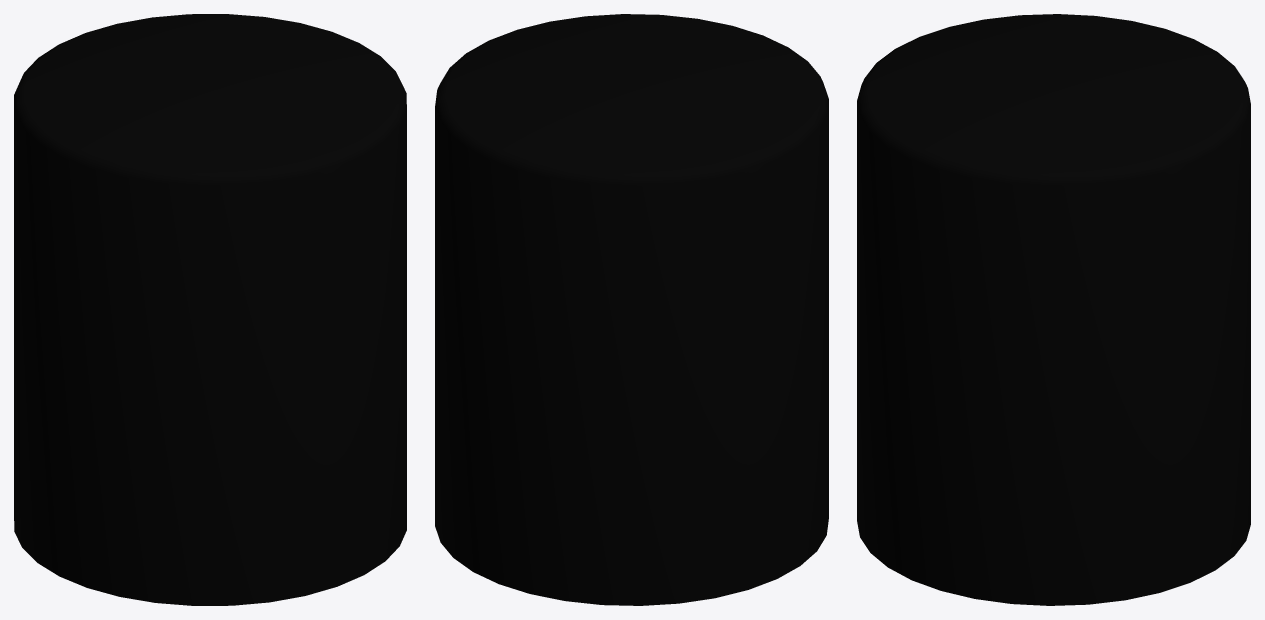
The model's file is p_mesh_minehub_caster_impactglow02.fbx.
3 renders of one model, left to right at view 1: azimuth 30°, elevation 25°; view 2: azimuth 150°, elevation 25°; view 3: azimuth 270°, elevation 25°, orthographic.
Visible parts, largest first — view 1: Glowing01.001; view 2: Glowing01.001; view 3: Glowing01.001.
Part boxes in pixels (box(x1,y1,x2,y2)): Glowing01.001: box(14, 14, 406, 605); Glowing01.001: box(435, 14, 828, 605); Glowing01.001: box(857, 14, 1250, 605).
Bounding box in the file's own units: 18.81 × 22.63 × 18.81.
